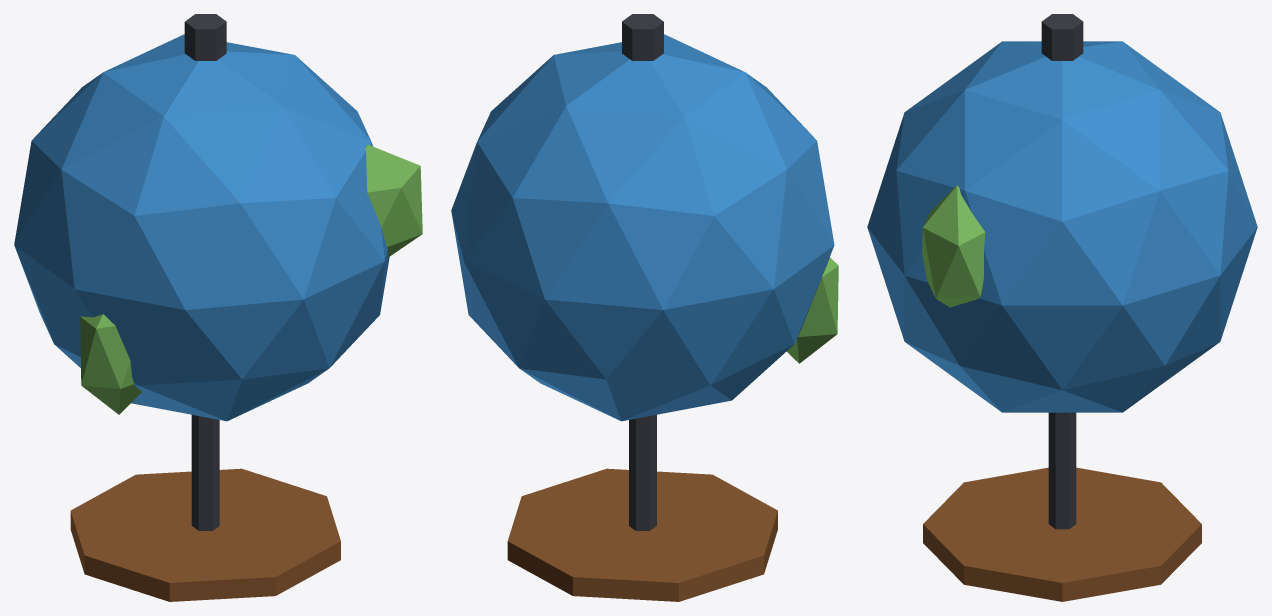
Rendered from globe.glb.
The picture shows the model from 3 angles, left to right: view 1: azimuth 30°, elevation 25°; view 2: azimuth 150°, elevation 25°; view 3: azimuth 270°, elevation 25°; orthographic projection.
Parts seen in each view (by area): view 1: globe; view 2: globe; view 3: globe.
Boxes of the visible parts, box(x1,y1,x2,y2) form: globe: box(14, 14, 422, 601); globe: box(451, 14, 838, 601); globe: box(867, 14, 1257, 601).
Size of the model in its own units: 0.5349 by 0.825 by 0.56.
